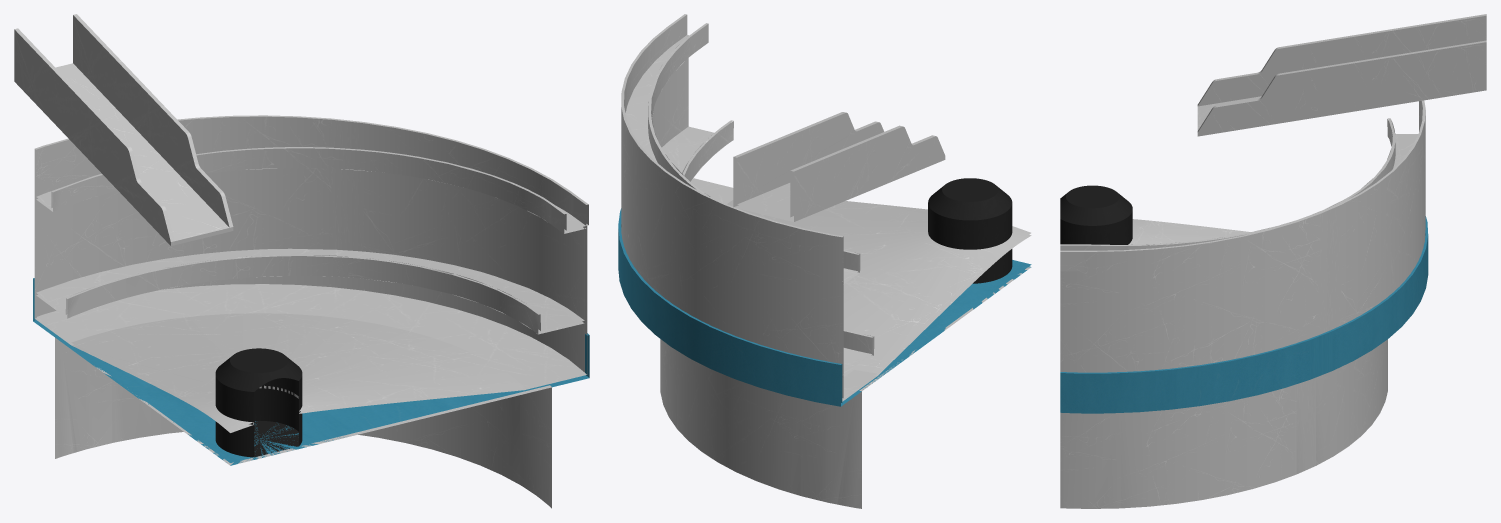
Rendered from PickingStation_Cube11.glb.
The picture shows the model from 3 angles, left to right: view 1: azimuth 30°, elevation 25°; view 2: azimuth 150°, elevation 25°; view 3: azimuth 270°, elevation 25°; orthographic projection. The views are drawn at different scales.
Visible parts, largest first — view 1: color-13[5]; view 2: color-13[5]; view 3: color-13[5].
Part boxes in pixels (box(x1,y1,x2,y2)): color-13[5]: box(14, 14, 589, 508); color-13[5]: box(618, 14, 1031, 508); color-13[5]: box(1060, 14, 1486, 508).
Bounding box in the file's own units: 0.2889 × 0.2948 × 0.32.
Materials: 3 (3 with a texture image).
